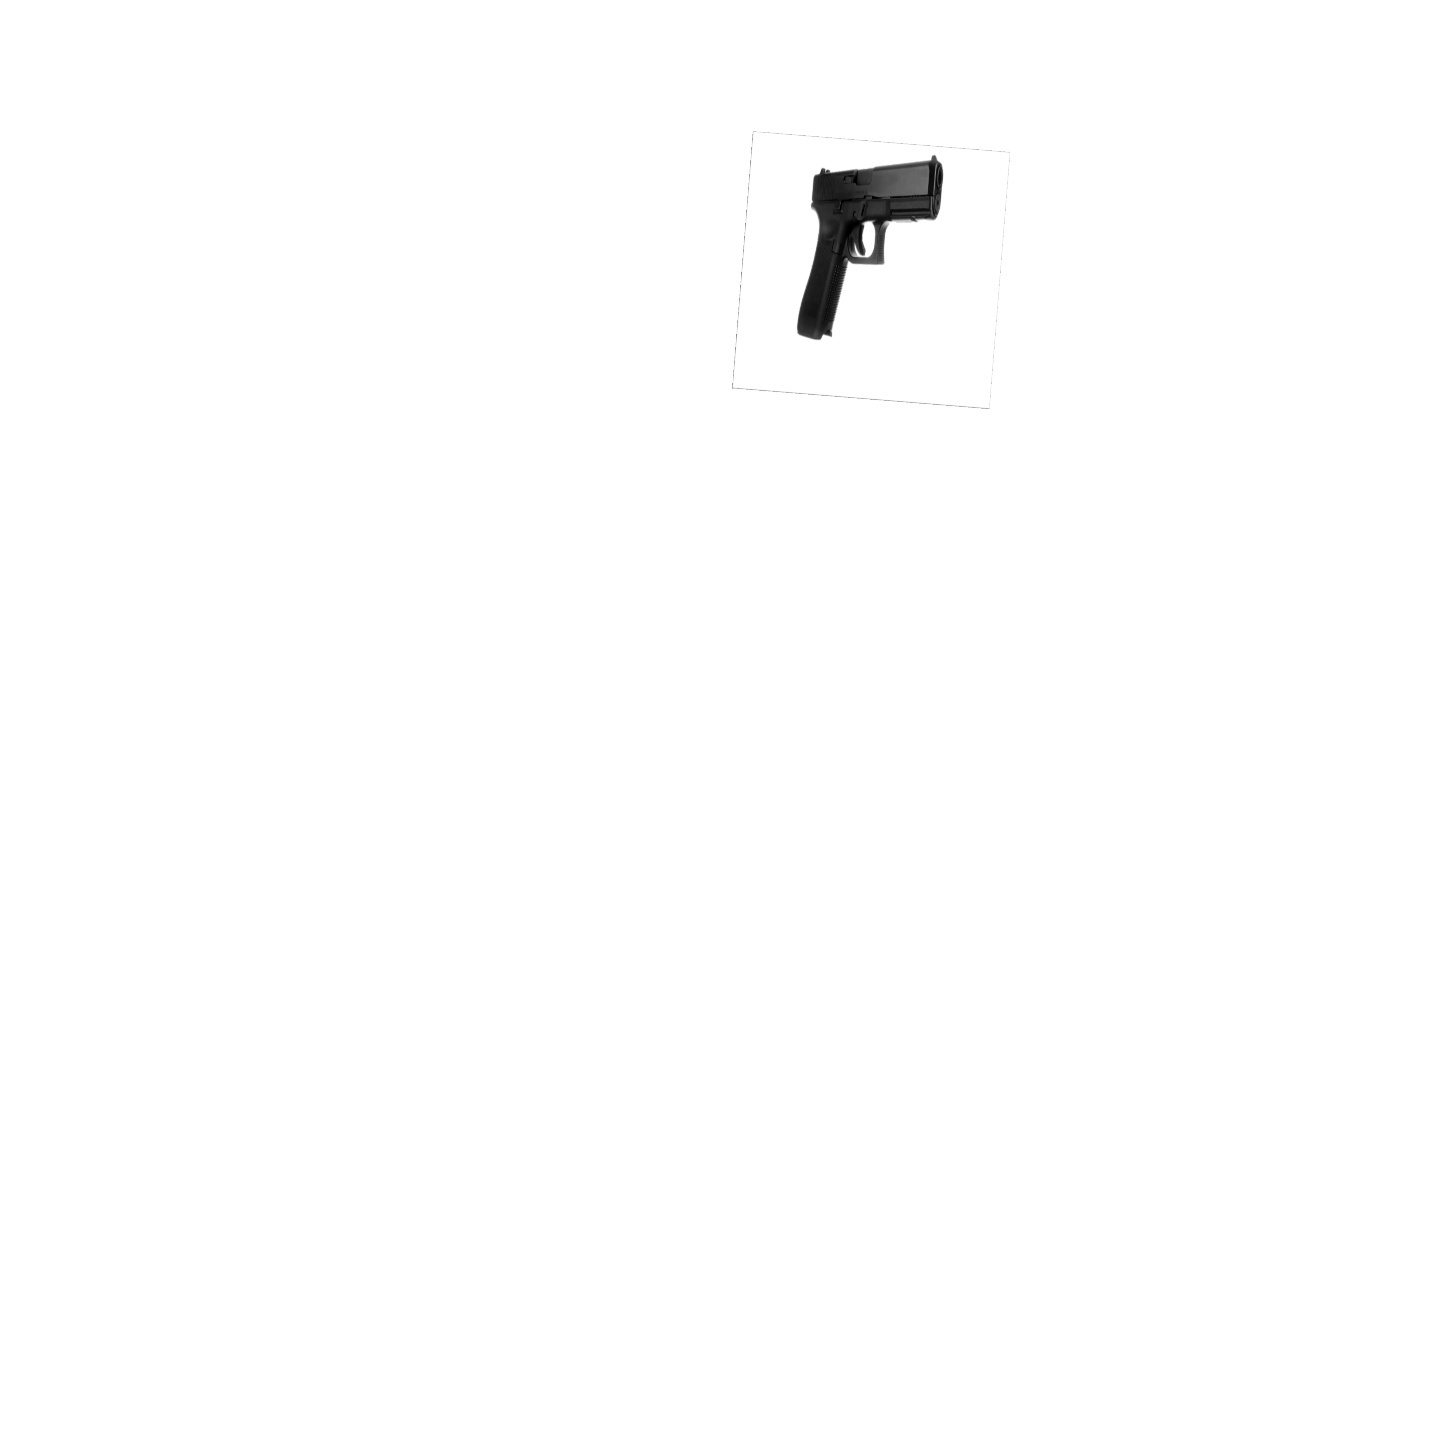gun: (791, 151, 960, 349)
